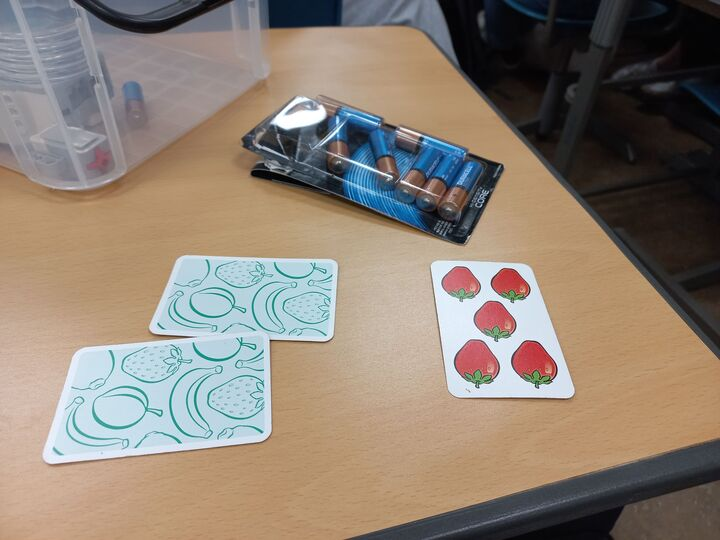strawberry5: (430, 257, 577, 402)
